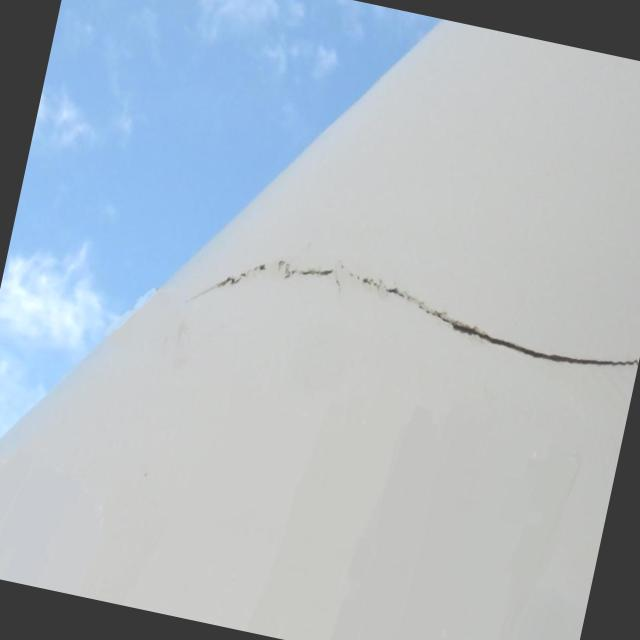crack: (186, 235, 640, 392)
